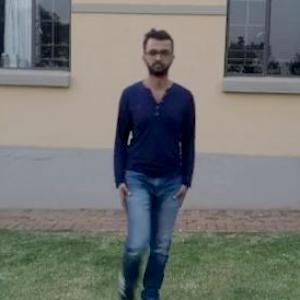follow: (116, 31, 199, 299)
